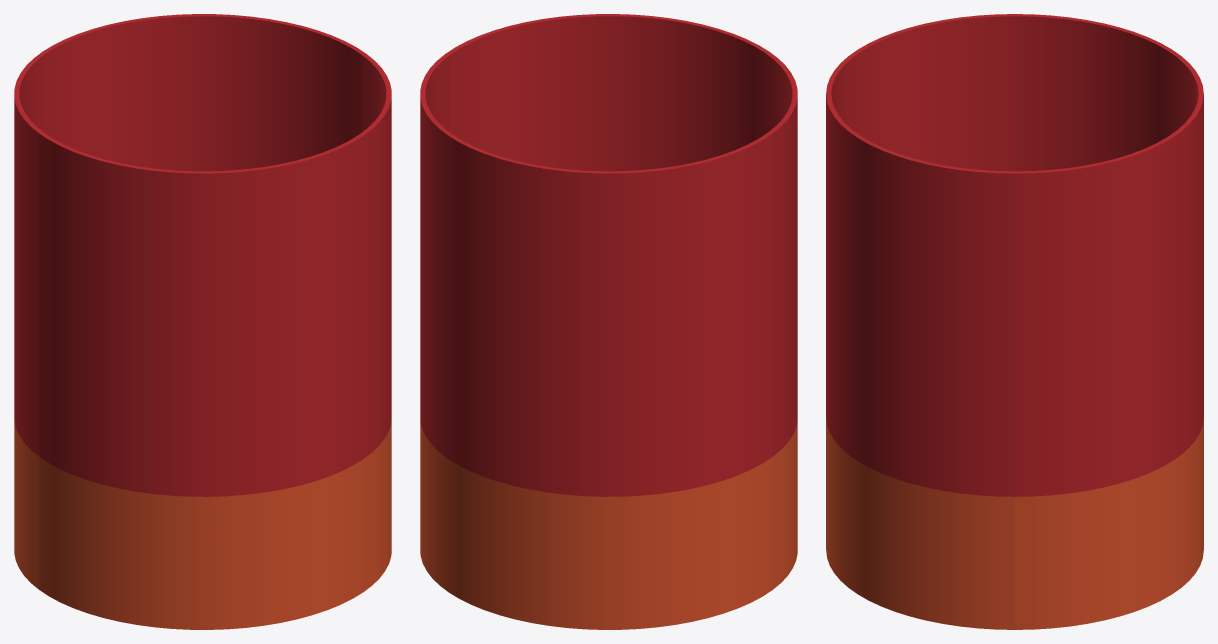
File: fluidized_bed_combustor_temperature.glb
3 renders of one model, left to right at view 1: azimuth 30°, elevation 25°; view 2: azimuth 150°, elevation 25°; view 3: azimuth 270°, elevation 25°, orthographic.
Parts seen in each view (by area): view 1: temperature__front, temperature__back; view 2: temperature__back, temperature__front; view 3: temperature__back, temperature__front.
Part boxes in pixels (x1,y1,x2,y2): temperature__front: (39, 54, 391, 629); temperature__back: (14, 14, 366, 589); temperature__back: (420, 54, 772, 629); temperature__front: (445, 14, 797, 589); temperature__back: (1015, 14, 1203, 629); temperature__front: (826, 14, 1014, 629).
Size of the model in its own units: 1.8 by 2.4 by 1.8.
